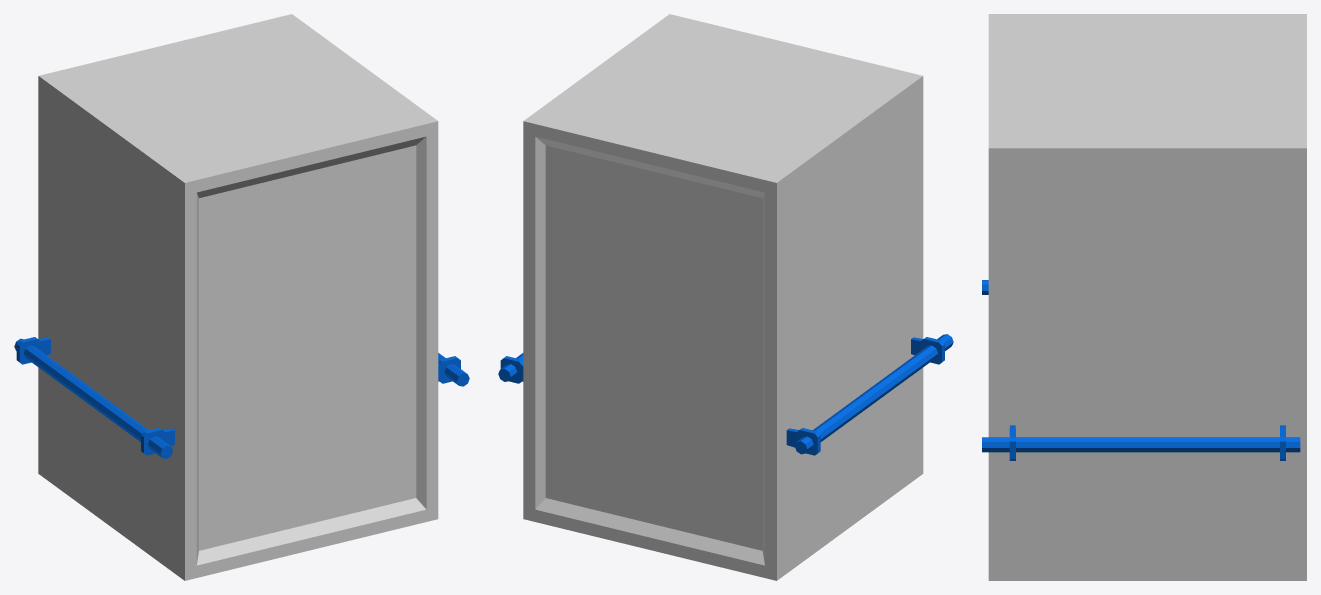
File: Dragable Object.fbx
3 renders of one model, left to right at view 1: azimuth 30°, elevation 25°; view 2: azimuth 150°, elevation 25°; view 3: azimuth 270°, elevation 25°, orthographic. The views are drawn at different scales.
Parts seen in each view (by area): view 1: Cube, handler, handler.001; view 2: Cube, handler, handler.001; view 3: Cube, handler.001.
Boxes of the visible parts, box(x1,y1,x2,y2) form: Cube: box(38, 14, 438, 580); handler: box(14, 337, 174, 458); handler.001: box(438, 353, 469, 386); Cube: box(523, 14, 923, 580); handler: box(786, 334, 953, 455); handler.001: box(498, 353, 523, 383); Cube: box(988, 14, 1306, 580); handler.001: box(982, 425, 1300, 460).
Bounding box in the file's own units: 250 × 300 × 204.
